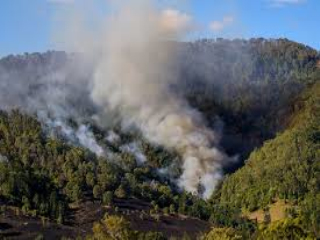smoke: (82, 9, 224, 193)
